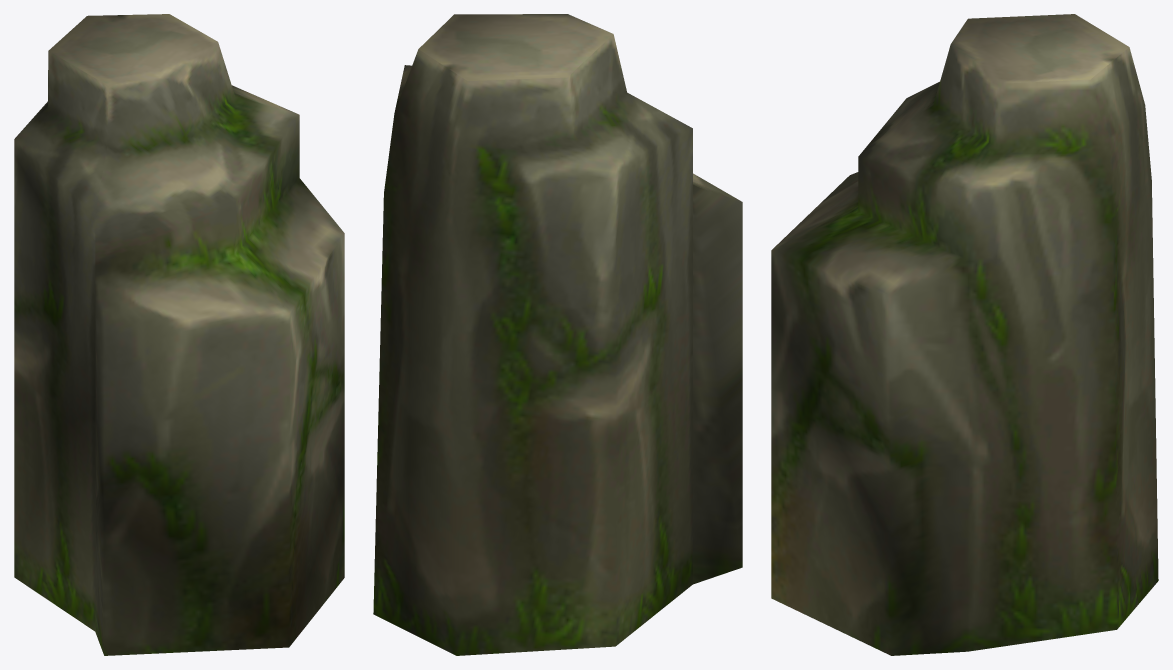
File: RockFormation_4_5 (18).fbx
3 renders of one model, left to right at view 1: azimuth 30°, elevation 25°; view 2: azimuth 150°, elevation 25°; view 3: azimuth 270°, elevation 25°, orthographic. The views are drawn at different scales.
Parts seen in each view (by area): view 1: RockFormation_4_5 (18); view 2: RockFormation_4_5 (18); view 3: RockFormation_4_5 (18).
Boxes of the visible parts, x1,y1,x2,y2 form: RockFormation_4_5 (18): (14,14,344,655); RockFormation_4_5 (18): (373,14,742,655); RockFormation_4_5 (18): (771,14,1158,655).
Size of the model in its own units: 383 by 723 by 473.
Materials: 1 (1 with a texture image).
